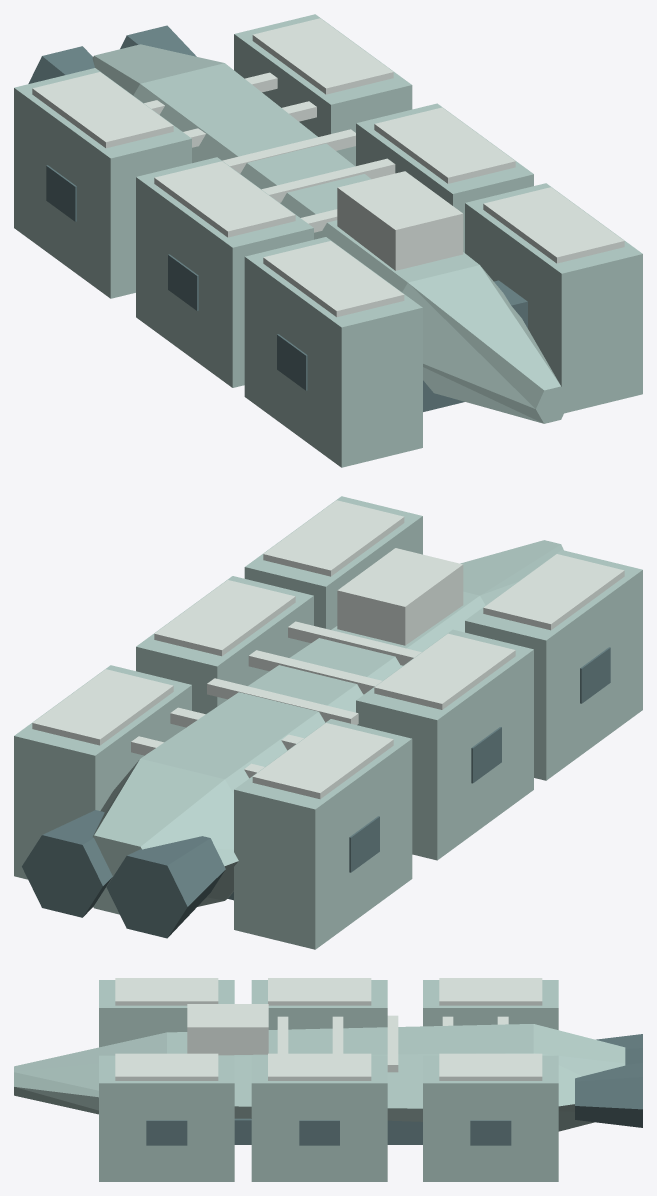
The picture shows the model from 3 angles, top to bottom: view 1: azimuth 30°, elevation 25°; view 2: azimuth 150°, elevation 25°; view 3: azimuth 270°, elevation 25°; orthographic projection. The views are drawn at different scales.
Size of the model in its own units: 3.53 by 1.8 by 8.98.
